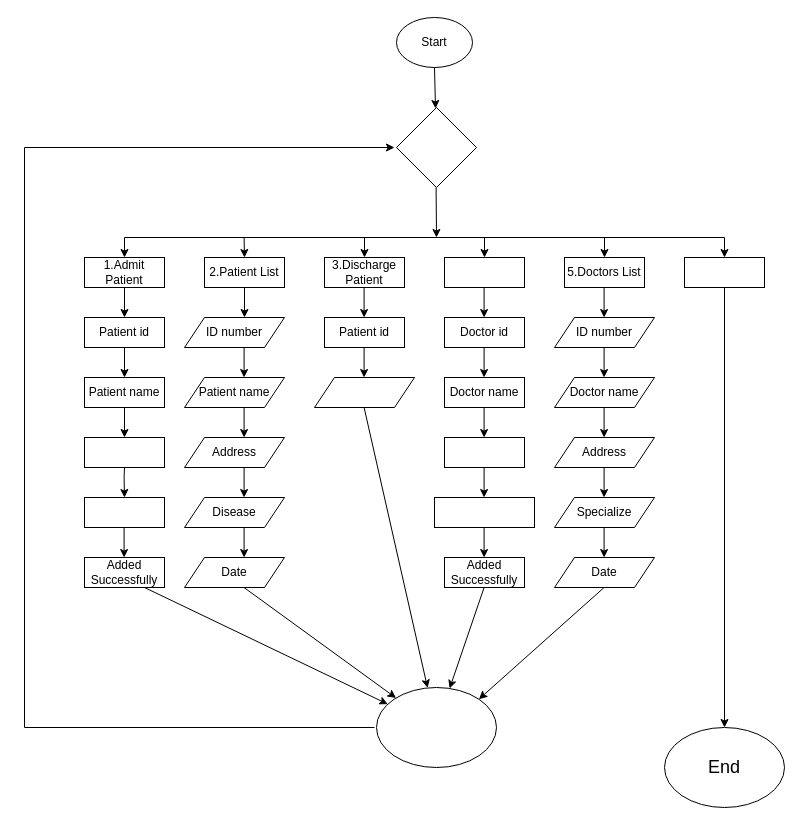
Image size: 802x825. Some labels were removed from this diagram. The centre of each missing label's shape, as x and y in pixels:
0.Exit: the point at 724,272
4.Add Doctor: the point at 484,272
Any Key To Continue: the point at 436,727
Doctor Address: the point at 484,452
Doctor Specialize: the point at 484,512
Patient Address: the point at 124,452
Patient Discharged: the point at 364,392
Patient Disease: the point at 124,512
Your choice: the point at 436,147
